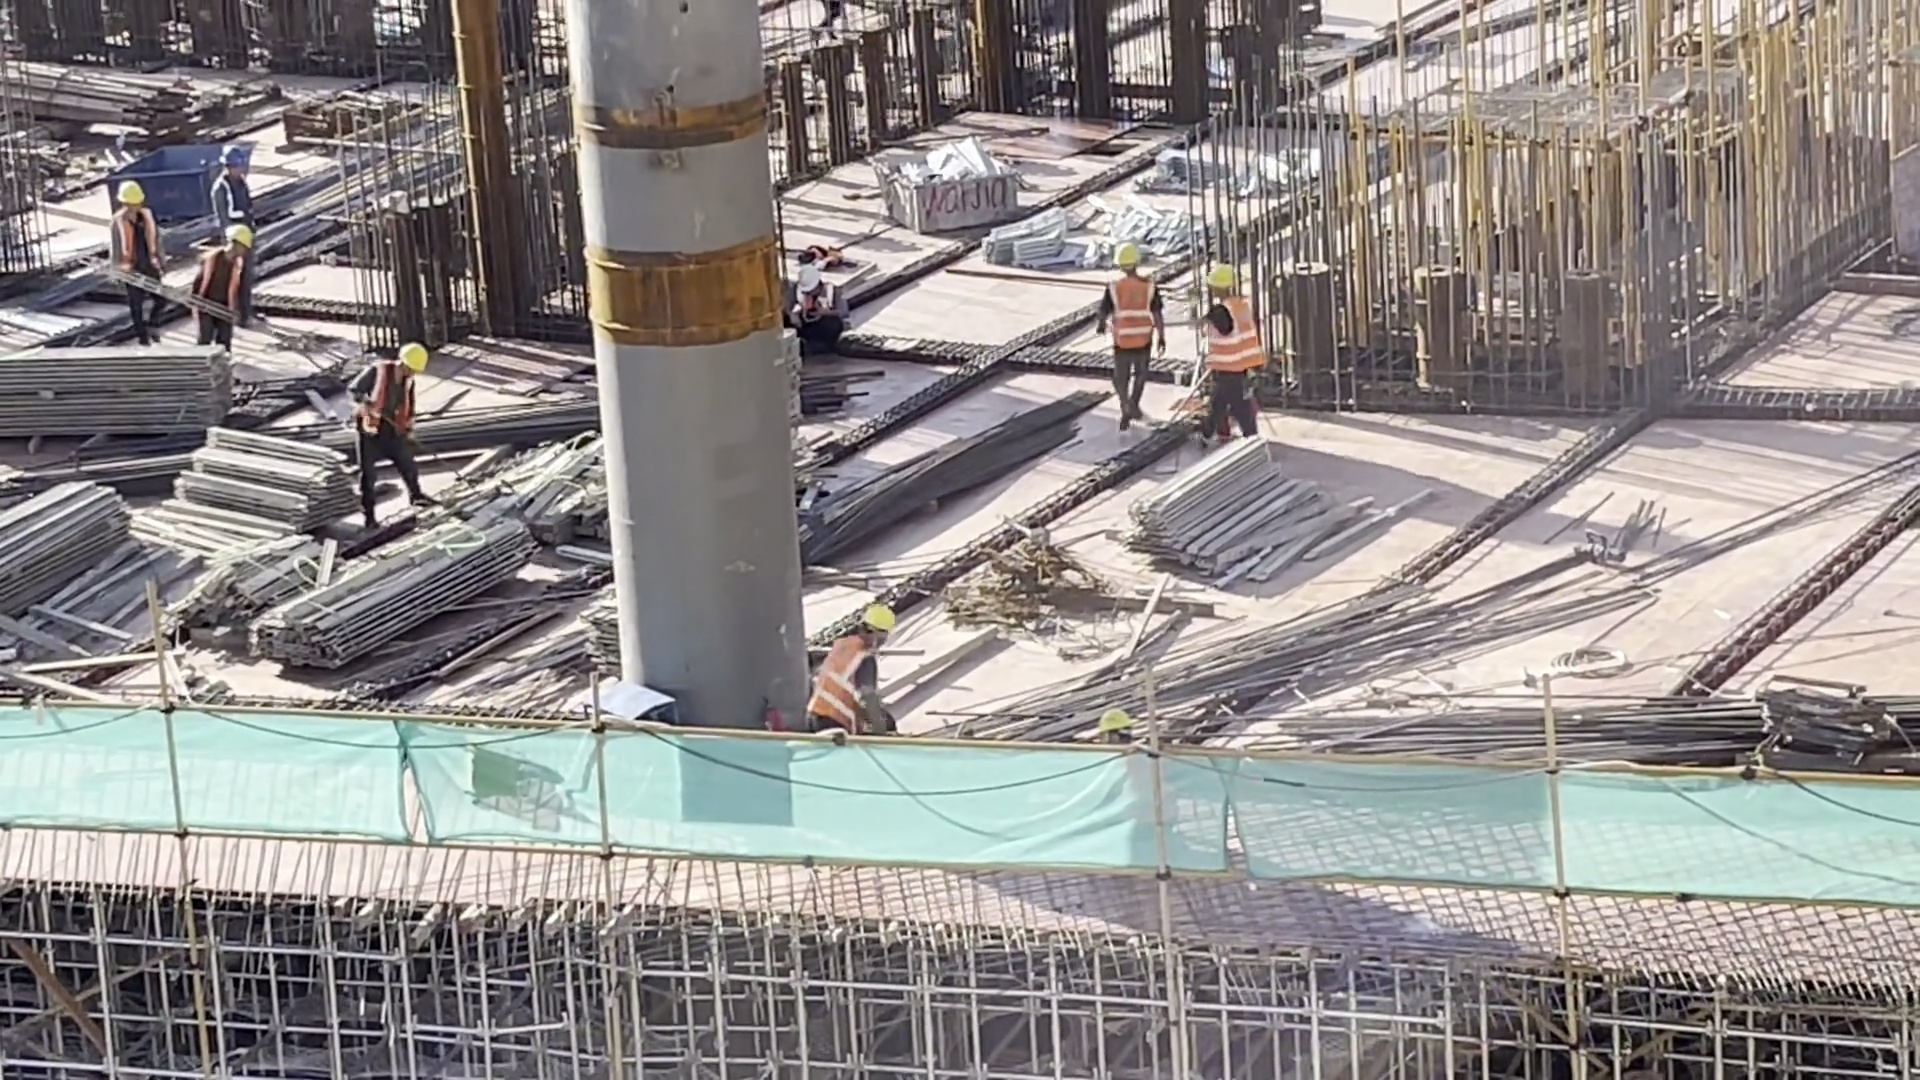helmet: (111, 164, 151, 215), (777, 250, 822, 295), (1101, 226, 1145, 268), (218, 215, 249, 257), (212, 141, 255, 165), (391, 350, 426, 369), (1197, 271, 1229, 293)
person: (1088, 231, 1171, 427), (355, 315, 430, 526), (823, 574, 911, 752), (1186, 261, 1264, 443), (88, 179, 164, 313), (193, 220, 255, 361), (774, 253, 844, 343), (200, 139, 258, 239)
vest: (806, 630, 867, 722), (196, 243, 252, 317), (107, 202, 164, 267), (359, 369, 407, 439), (1203, 312, 1256, 376), (206, 176, 258, 235), (1111, 282, 1152, 344)
